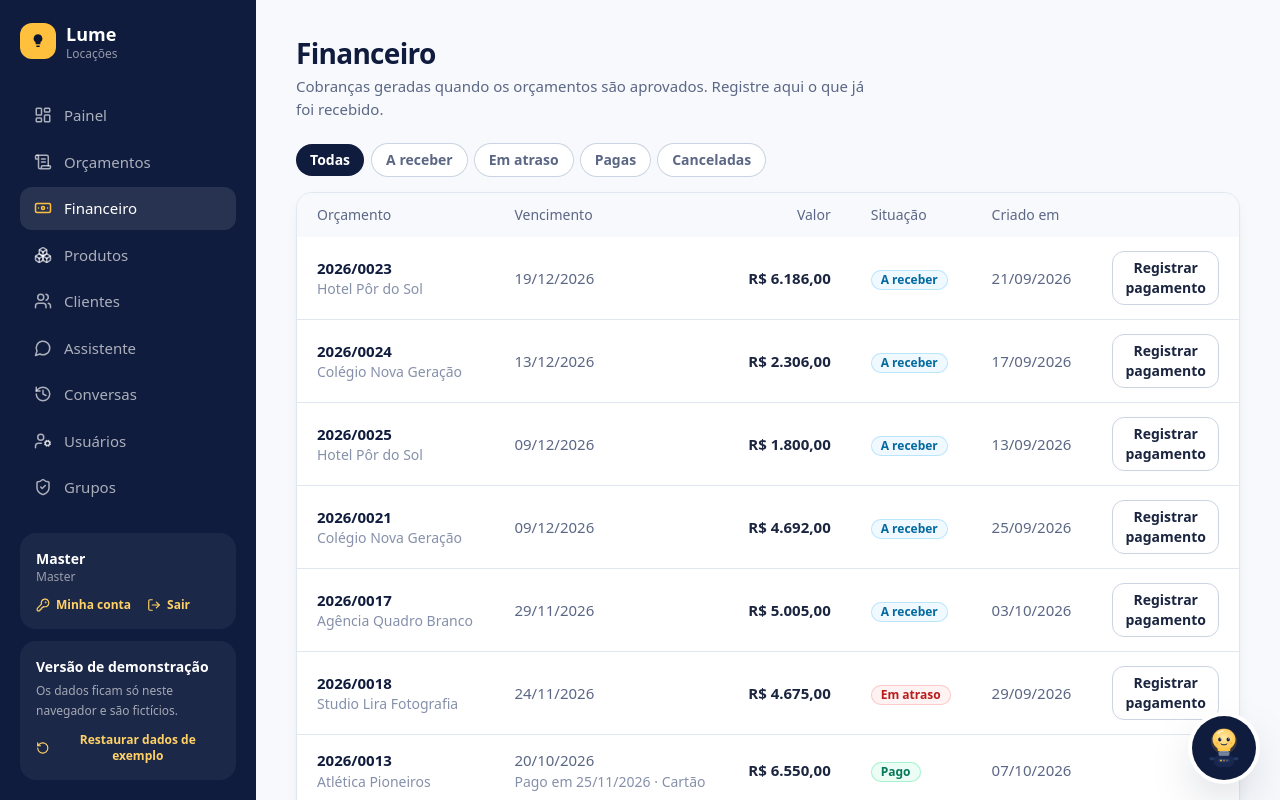
Test case: Financeiro › lista cobranças, filtra atrasadas e registra um pagamento
Expected: the heading "Financeiro" is shown, [296,34,436,72]
Click the button "Em atraso" at (524, 160), box [475,144,573,176]
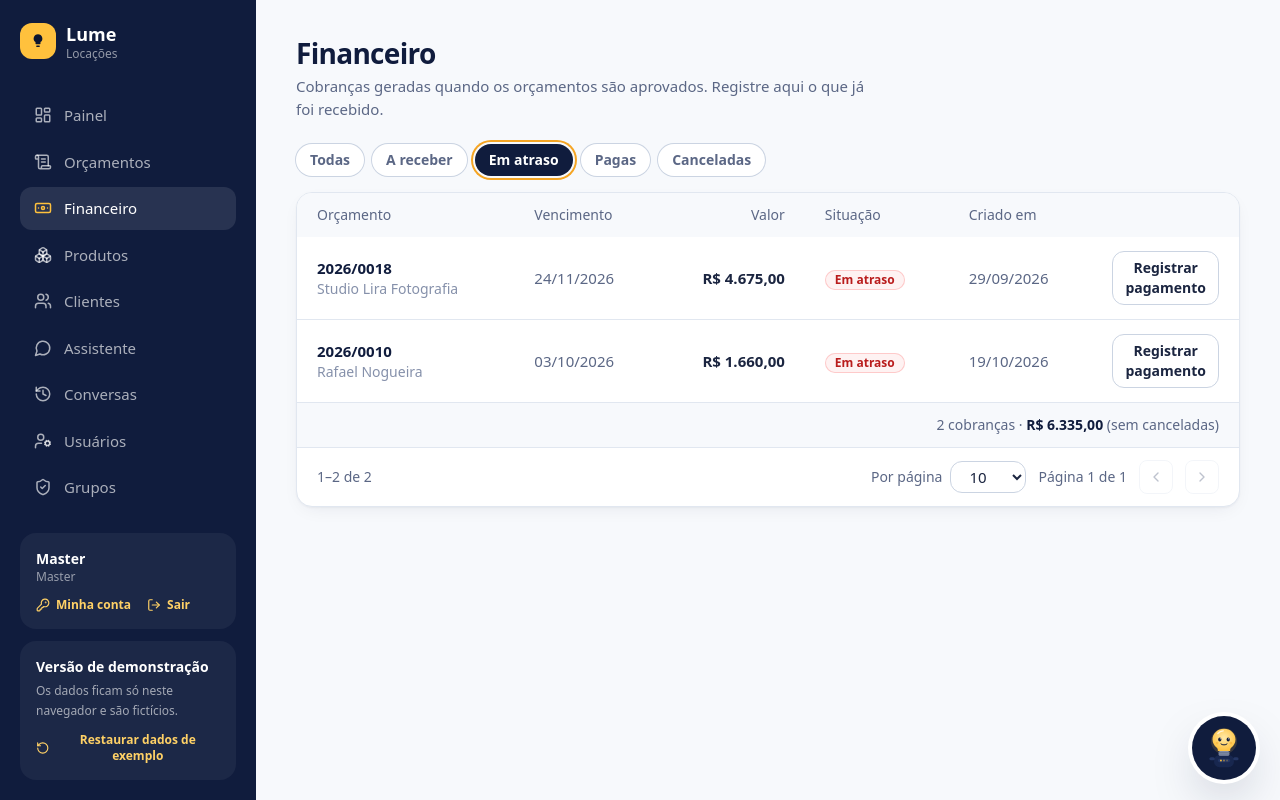
Now the button "Em atraso" is pressed, box [475,144,573,176]
Click the button with aria-label "Registrar pagamento do orçamento" at (1166, 278), box [1112,251,1219,305]
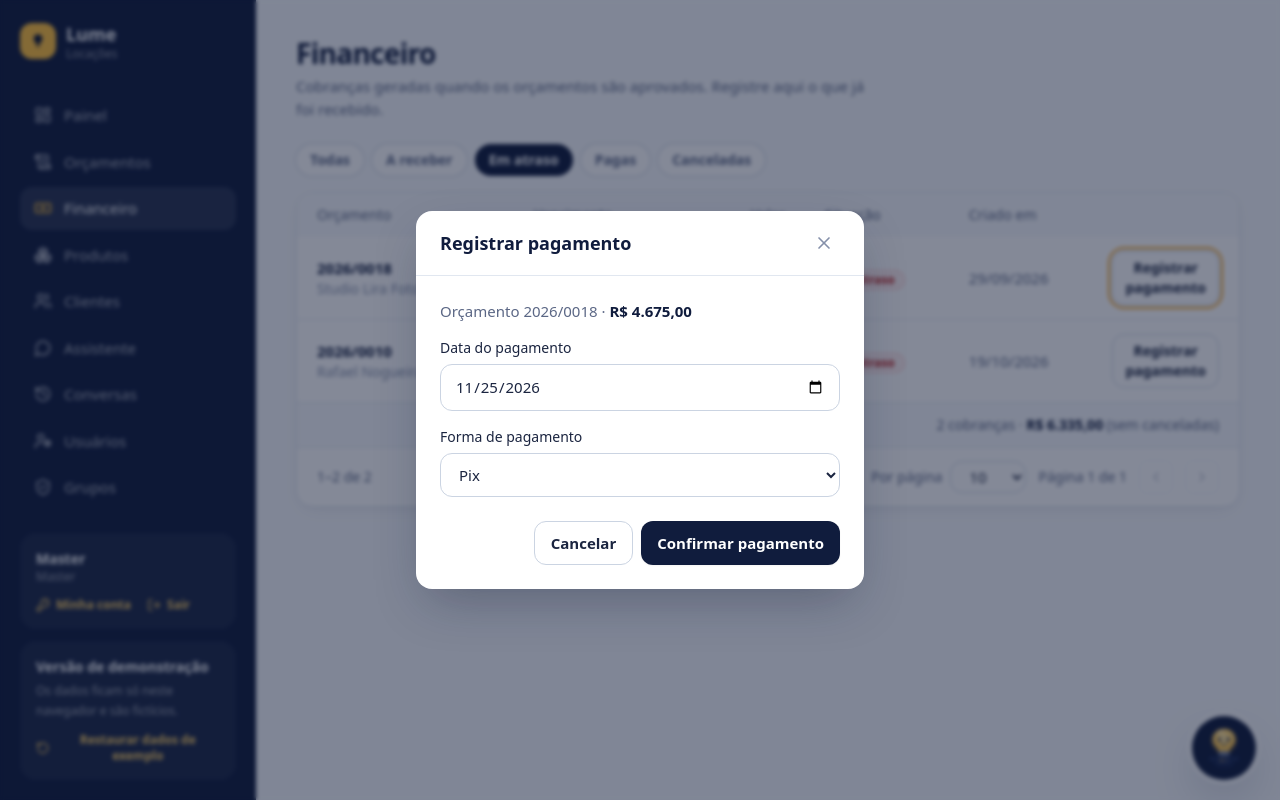
Select "Boleto" in the dropdown labelled "Forma de pagamento" at (640, 475), box [440,453,840,497]
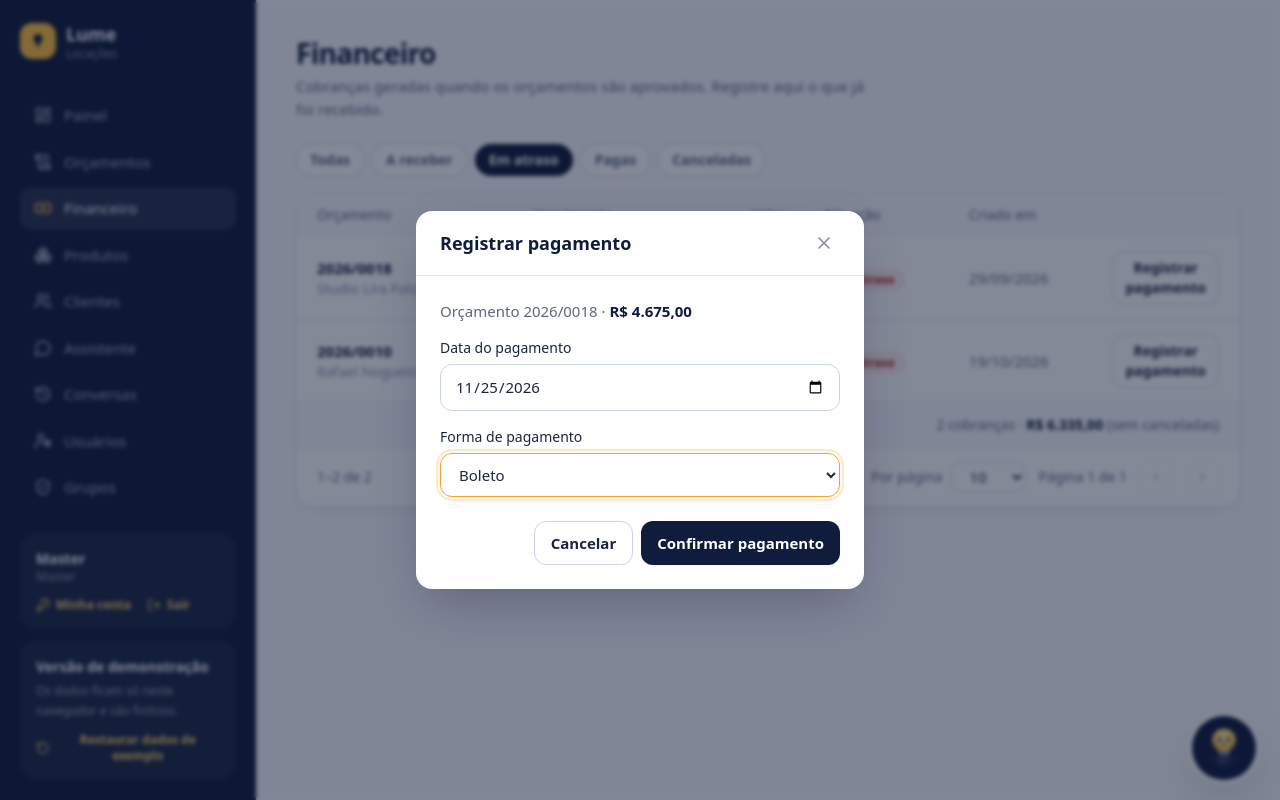
Click the button "Confirmar pagamento" at (741, 543), box [641,521,840,565]
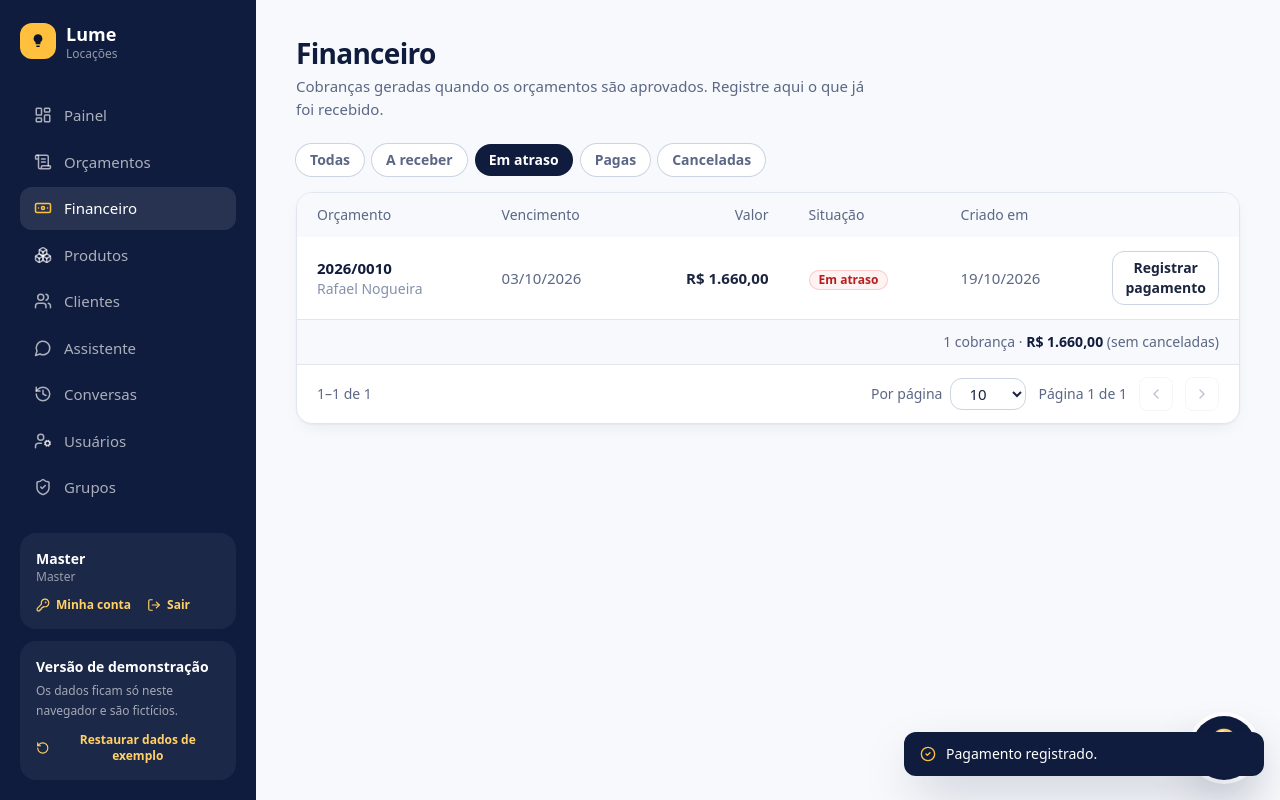
Now the text "Pagamento registrado." is shown, box [904,732,1264,776]
Now the number of buttons named "Registrar pagamento do orçamento" is 1, box [1112,251,1219,305]
